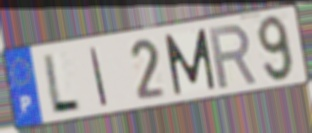2: (129, 37, 168, 103)
9: (254, 13, 296, 84)
I: (88, 45, 110, 108)
L: (41, 51, 83, 114)
M: (162, 26, 218, 98)
R: (206, 22, 259, 91)
